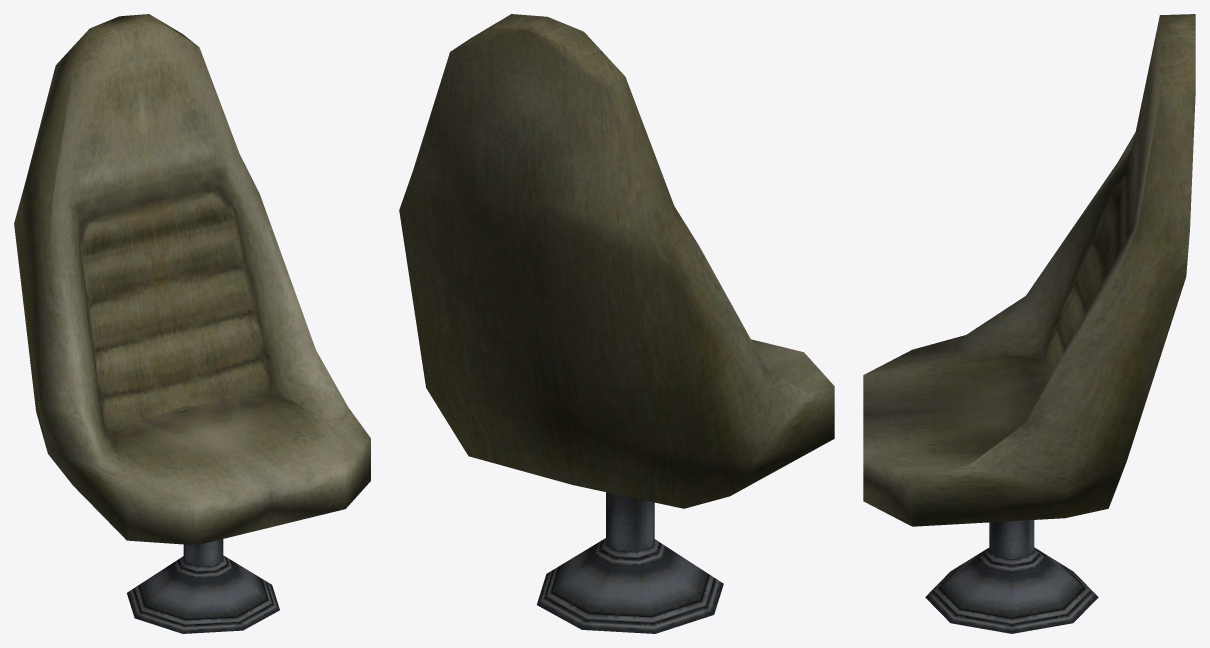
The model's file is frn_spc_chair_pilot_s01_l1.fbx.
The picture shows the model from 3 angles, left to right: view 1: azimuth 30°, elevation 25°; view 2: azimuth 150°, elevation 25°; view 3: azimuth 270°, elevation 25°; orthographic projection. The views are drawn at different scales.
Parts seen in each view (by area): view 1: mesh_node; view 2: mesh_node; view 3: mesh_node.
Boxes of the visible parts, x1,y1,x2,y2 form: mesh_node: (14, 14, 370, 633); mesh_node: (399, 14, 834, 633); mesh_node: (863, 14, 1195, 633).
Size of the model in its own units: 0.6499 by 1.21 by 0.6362.
